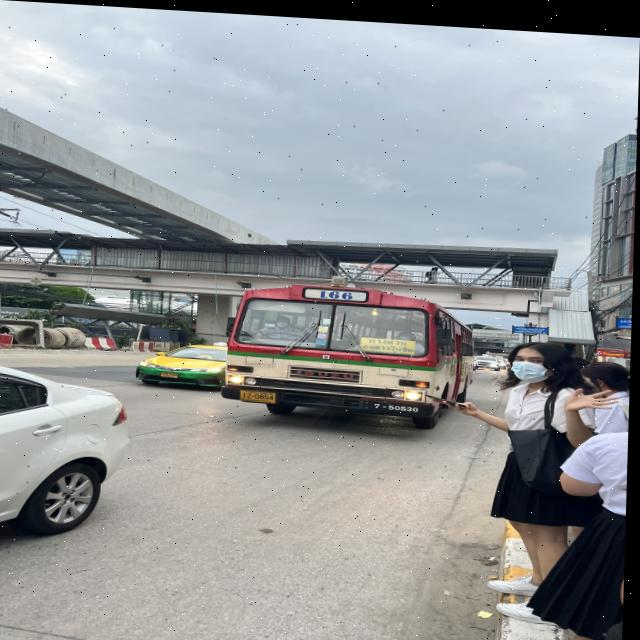BMTA-bus: (223, 279, 477, 425)
Bus Line Number: (301, 283, 370, 298)
Bus Side Number: (374, 397, 424, 409)
Destination Sign: (363, 333, 416, 350)
